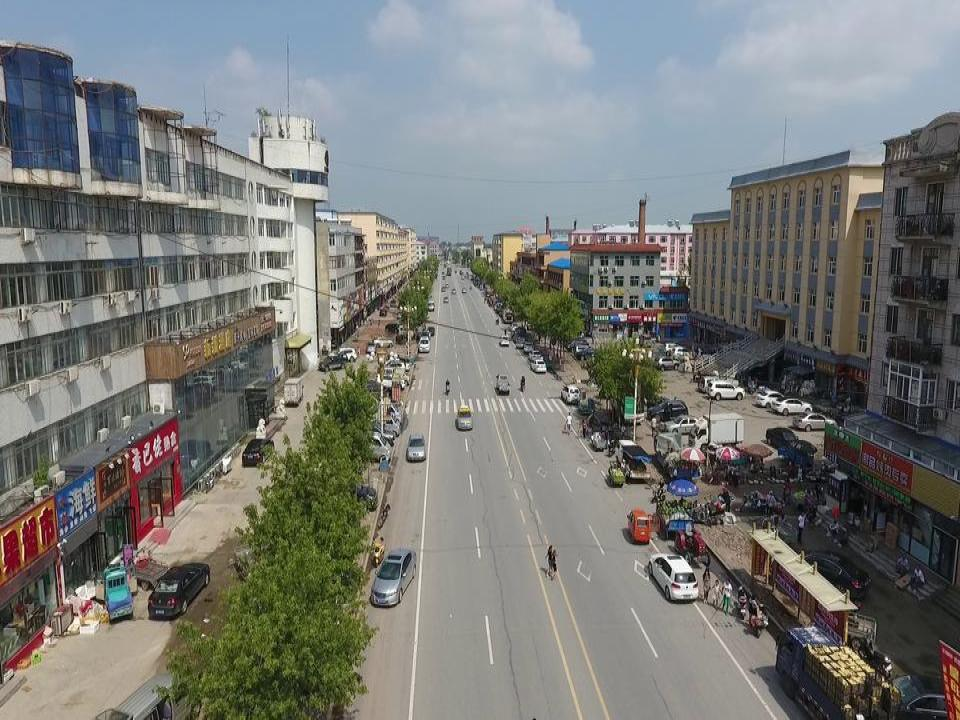bus: (610, 384, 645, 423), (502, 308, 513, 321), (446, 265, 452, 276)
car: (789, 549, 870, 600), (147, 563, 210, 620), (880, 676, 954, 720), (371, 548, 417, 607), (649, 554, 700, 602), (792, 409, 838, 432), (647, 398, 689, 422), (766, 426, 800, 454), (354, 423, 395, 445), (242, 439, 274, 465), (706, 380, 746, 400), (355, 378, 393, 398), (772, 397, 812, 415), (318, 351, 348, 373), (631, 391, 667, 409), (755, 390, 787, 410), (666, 415, 701, 433), (374, 372, 405, 391), (406, 433, 427, 460), (456, 402, 472, 431), (329, 346, 357, 362), (576, 346, 603, 362), (656, 355, 680, 372), (561, 385, 580, 404), (381, 360, 405, 375), (385, 358, 410, 370), (567, 338, 589, 351), (371, 336, 394, 348), (671, 346, 693, 358), (663, 341, 681, 355), (530, 359, 546, 373), (418, 336, 430, 353), (529, 349, 543, 363), (385, 323, 403, 333), (524, 341, 535, 355), (517, 337, 529, 348), (365, 341, 376, 352), (420, 330, 430, 342), (526, 318, 535, 330), (395, 320, 408, 328), (499, 335, 509, 345), (499, 307, 508, 317), (427, 325, 435, 336), (427, 300, 435, 311), (390, 297, 397, 308), (510, 323, 518, 332), (397, 308, 403, 319), (379, 309, 387, 316), (383, 304, 390, 312), (494, 302, 501, 310), (461, 286, 467, 294), (443, 296, 449, 303), (485, 291, 491, 297), (451, 288, 456, 293), (453, 268, 458, 273), (463, 271, 467, 277), (442, 274, 446, 278), (461, 275, 464, 280), (436, 270, 439, 274), (441, 272, 444, 276), (442, 272, 444, 275)
truck: (775, 625, 890, 720), (656, 500, 711, 568), (233, 534, 295, 574), (653, 432, 700, 479), (688, 412, 744, 449), (615, 439, 651, 481), (283, 376, 303, 407), (496, 372, 511, 396), (489, 294, 498, 307), (496, 301, 504, 314)
van: (95, 672, 194, 720), (314, 473, 378, 511), (351, 430, 392, 463), (359, 410, 401, 439), (362, 401, 404, 424), (699, 375, 729, 393), (382, 367, 411, 385), (639, 332, 651, 348), (441, 284, 445, 291), (445, 281, 449, 288)
